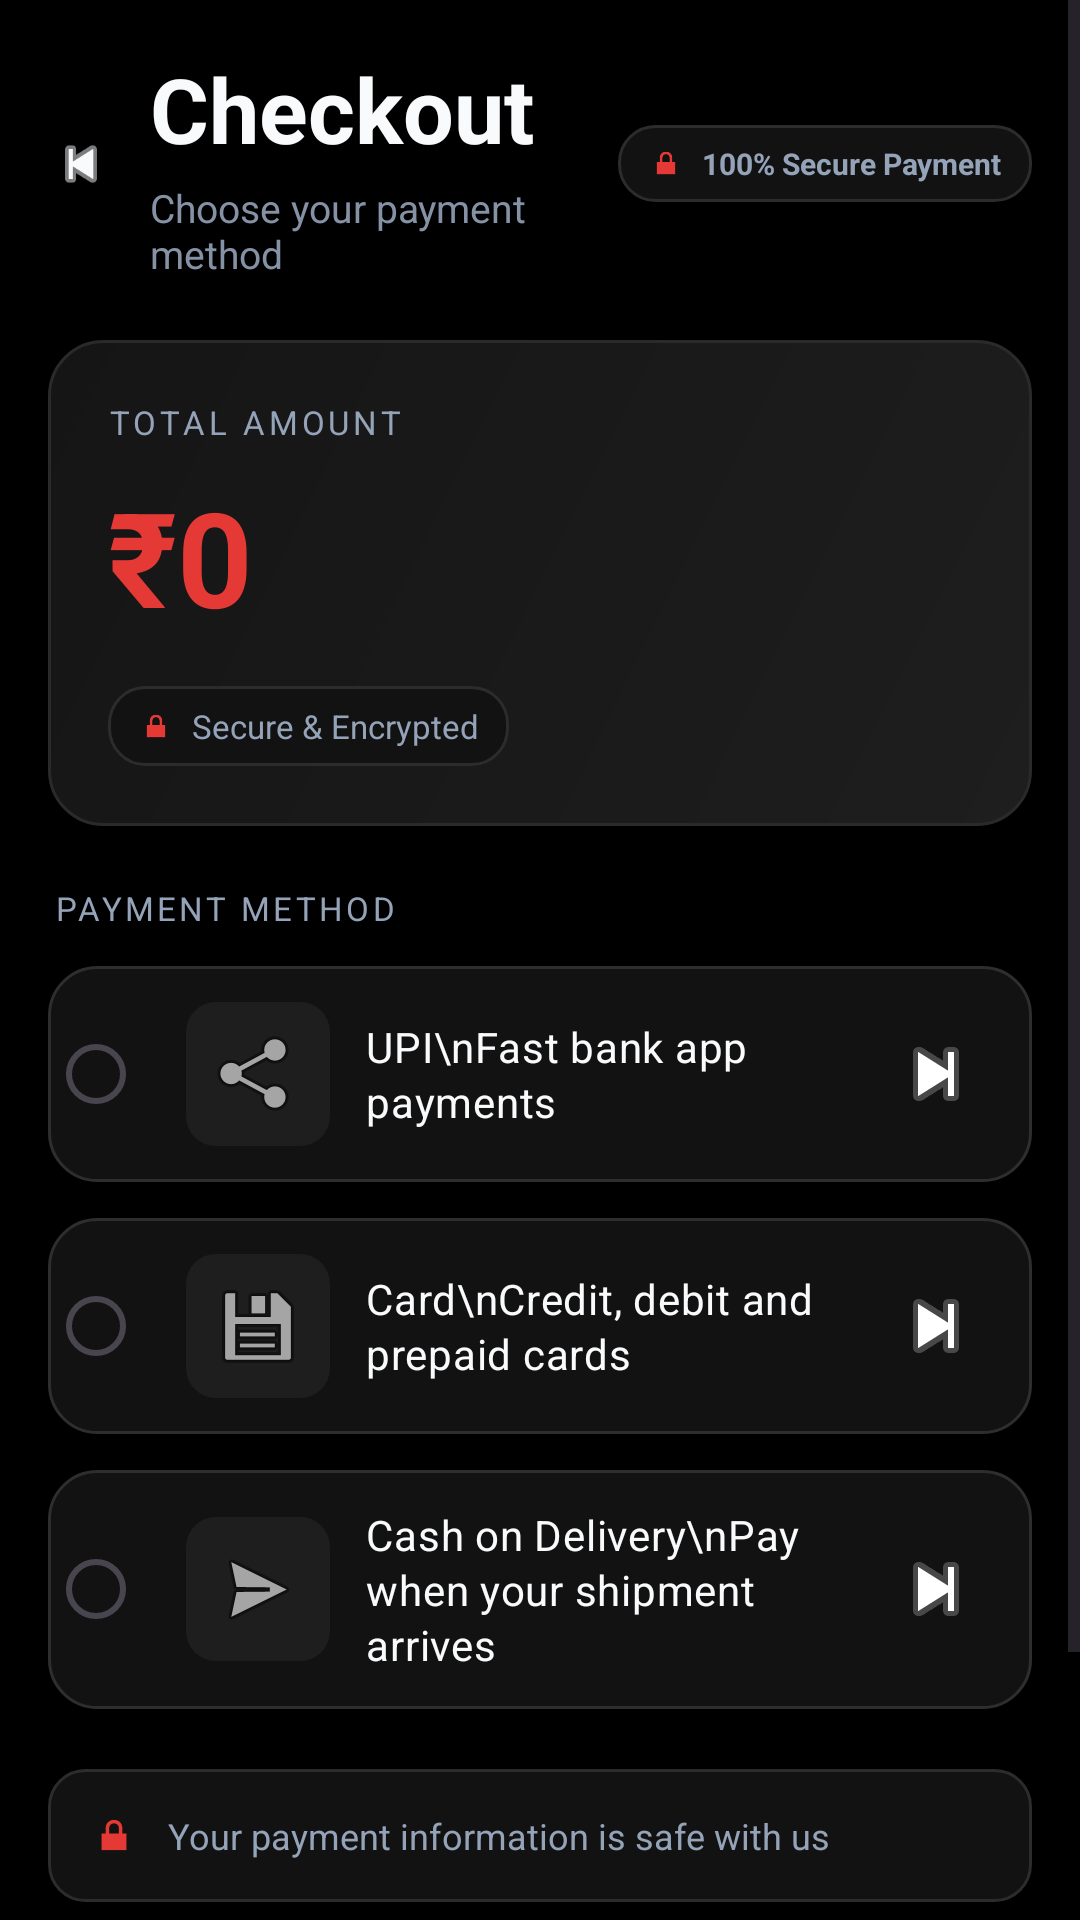

Where to tap for icons on this 1080 × 1920 app screen, as (x,y):
previous: (81,164)
